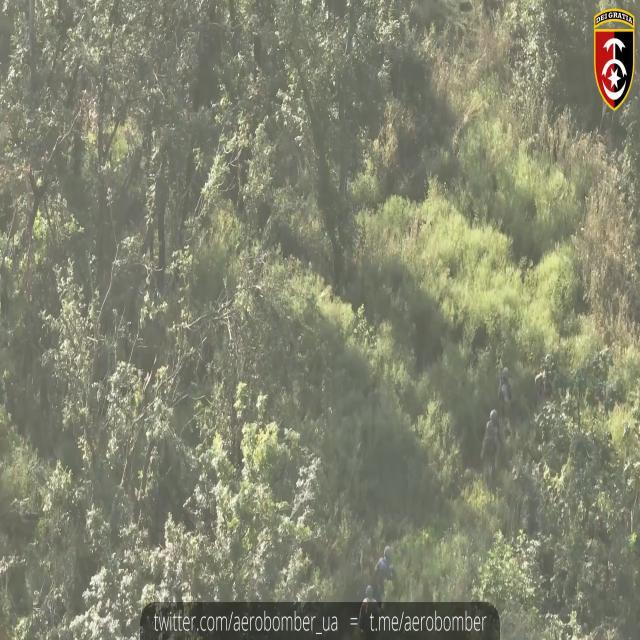MIL_Pax: (481, 409, 500, 487), (498, 367, 515, 434), (359, 584, 379, 640), (375, 547, 392, 602)
